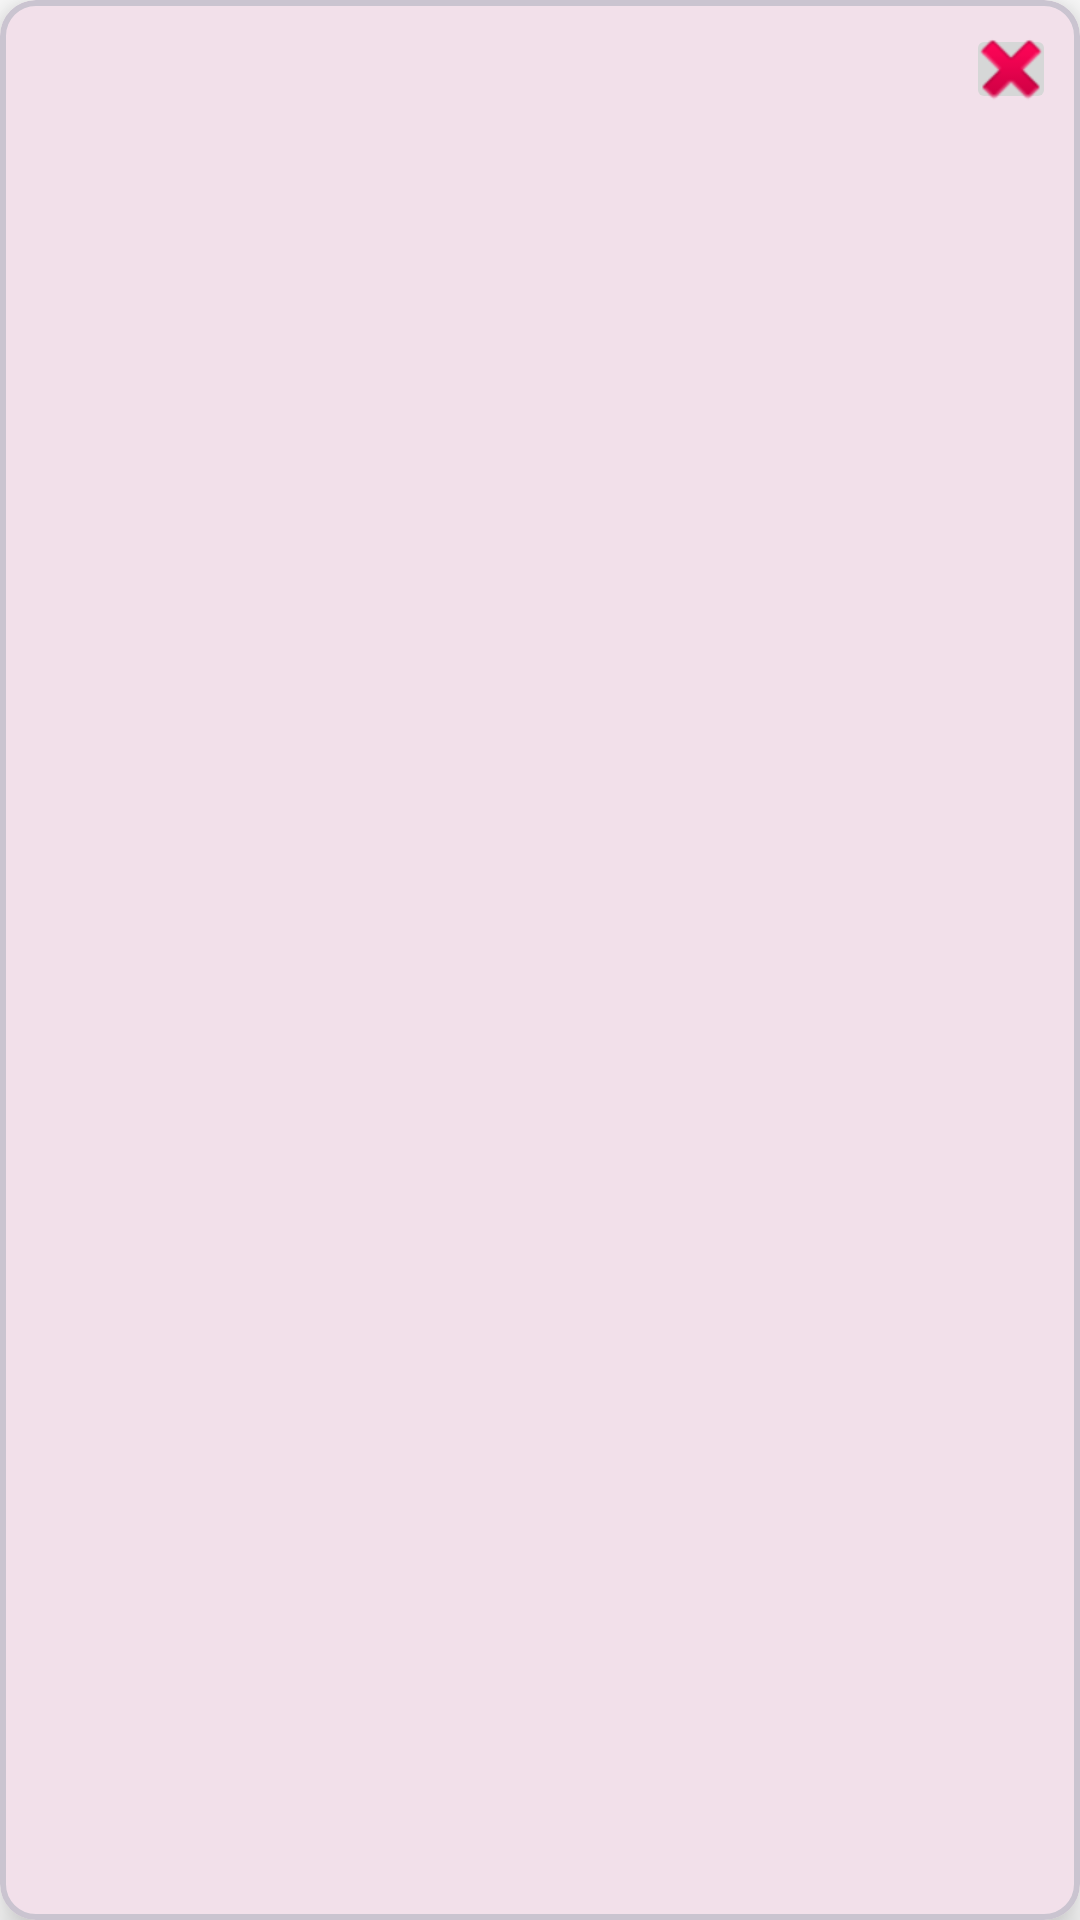

Screen size 1080x1920. Icon name, then its box in pixels as Rect(x1, y1, x2, y2):
Close PIP: Rect(978, 40, 1044, 99)
